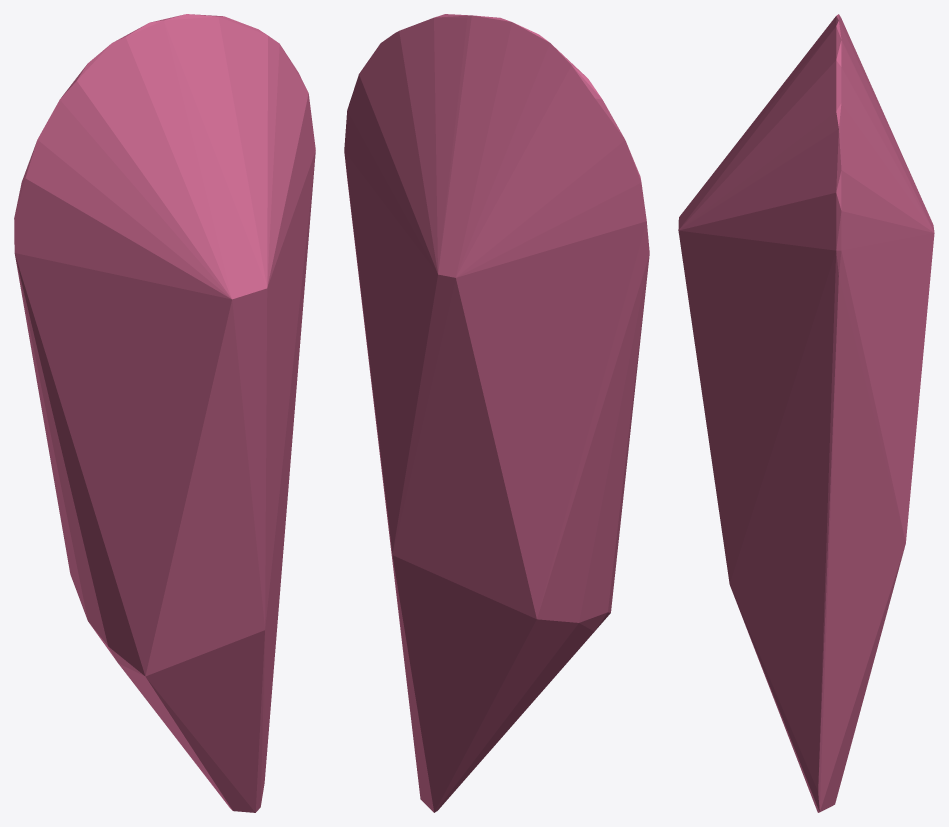
Rendered from computer_scanner_barcode_e01.glb.
3 views of the same model, side by side, from view 1: azimuth 30°, elevation 25°; view 2: azimuth 150°, elevation 25°; view 3: azimuth 270°, elevation 25° (orthographic). The views are drawn at different scales.
Parts seen in each view (by area): view 1: geometry_0; view 2: geometry_0; view 3: geometry_0.
Boxes of the visible parts, <box> form: geometry_0: <box>14,14,315,812</box>; geometry_0: <box>344,14,649,812</box>; geometry_0: <box>678,14,934,812</box>.
Size of the model in its own units: 0.187 by 0.4789 by 0.1483.
